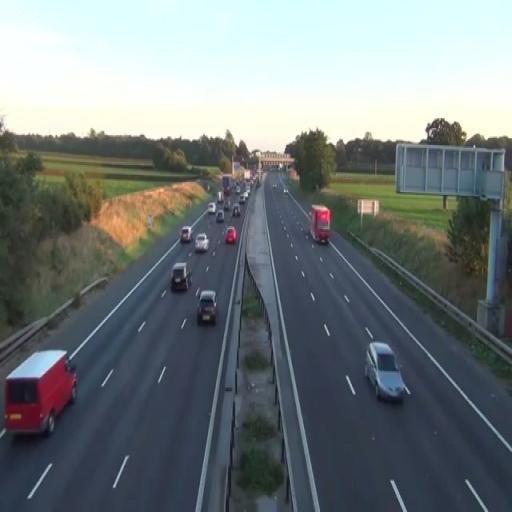Car: (364, 341, 407, 404), (197, 289, 218, 325), (170, 261, 192, 291), (195, 232, 210, 252), (224, 225, 237, 244), (180, 226, 192, 243), (231, 204, 240, 218), (216, 210, 224, 222)
Truck: (4, 348, 78, 436), (309, 204, 330, 244)
